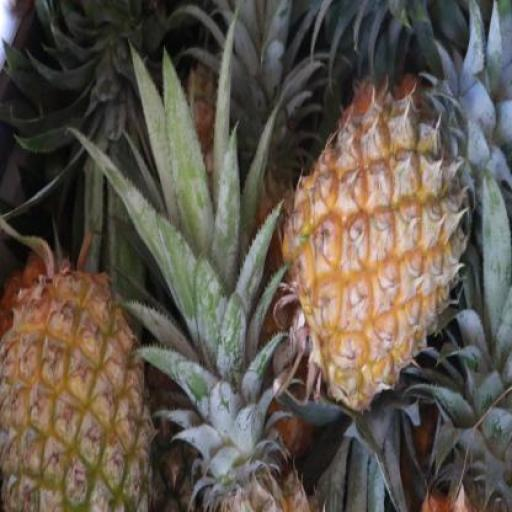------------------------------: (0, 258, 155, 512)
Pineapple - v8 v1: (284, 88, 486, 408)
